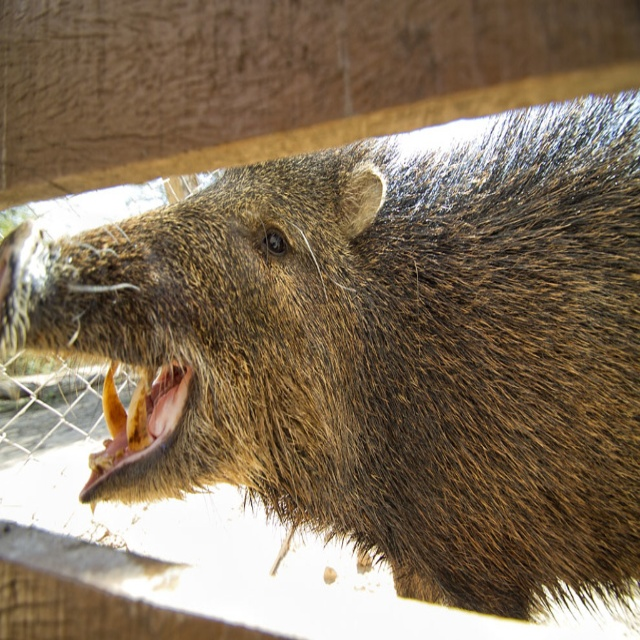Pig: (0, 89, 639, 628)
